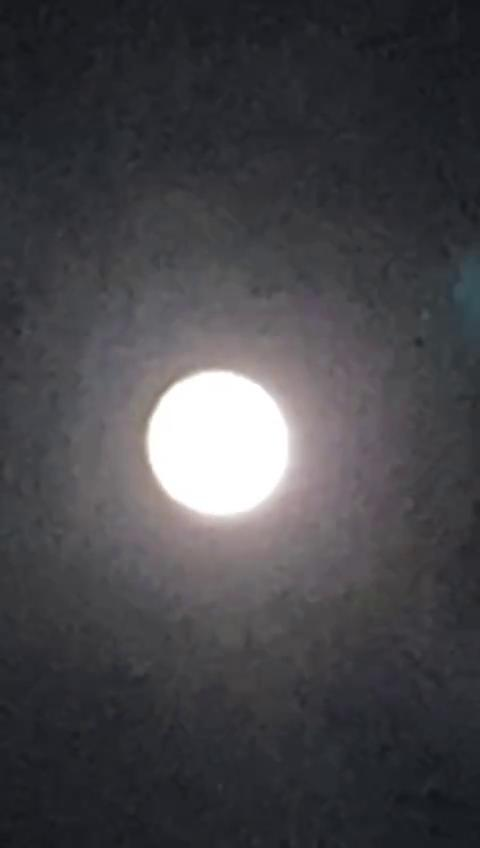moon: (112, 334, 280, 524)
